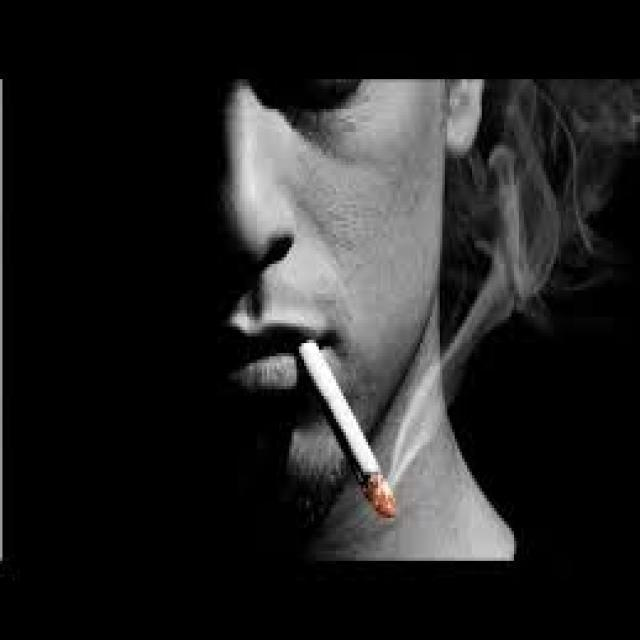rokok: (295, 334, 419, 520)
